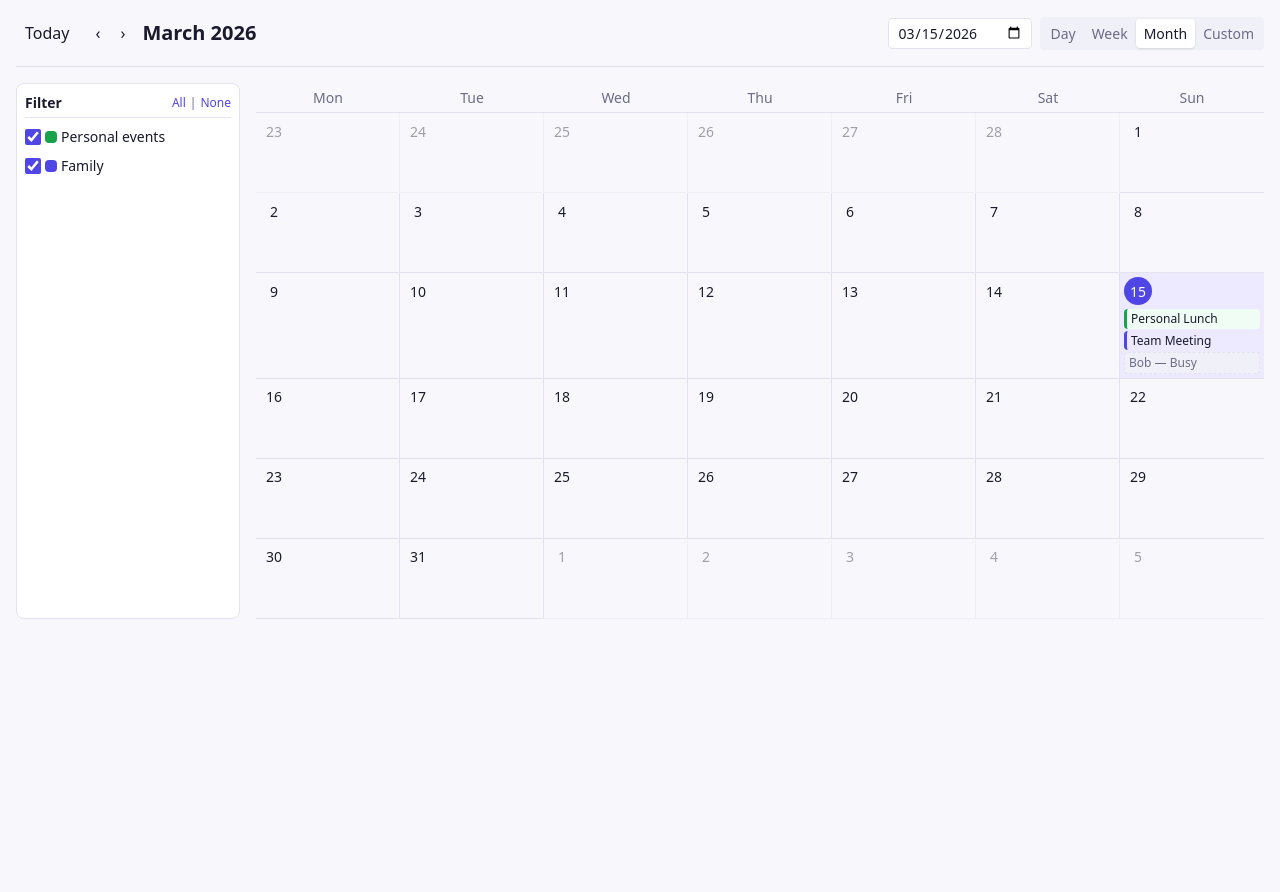
it: Calendar page › shows custom days input when custom mode is selected
Click the radio button labelled "Custom": (1229, 33) top-left (1203, 24), bottom-right (1254, 42)
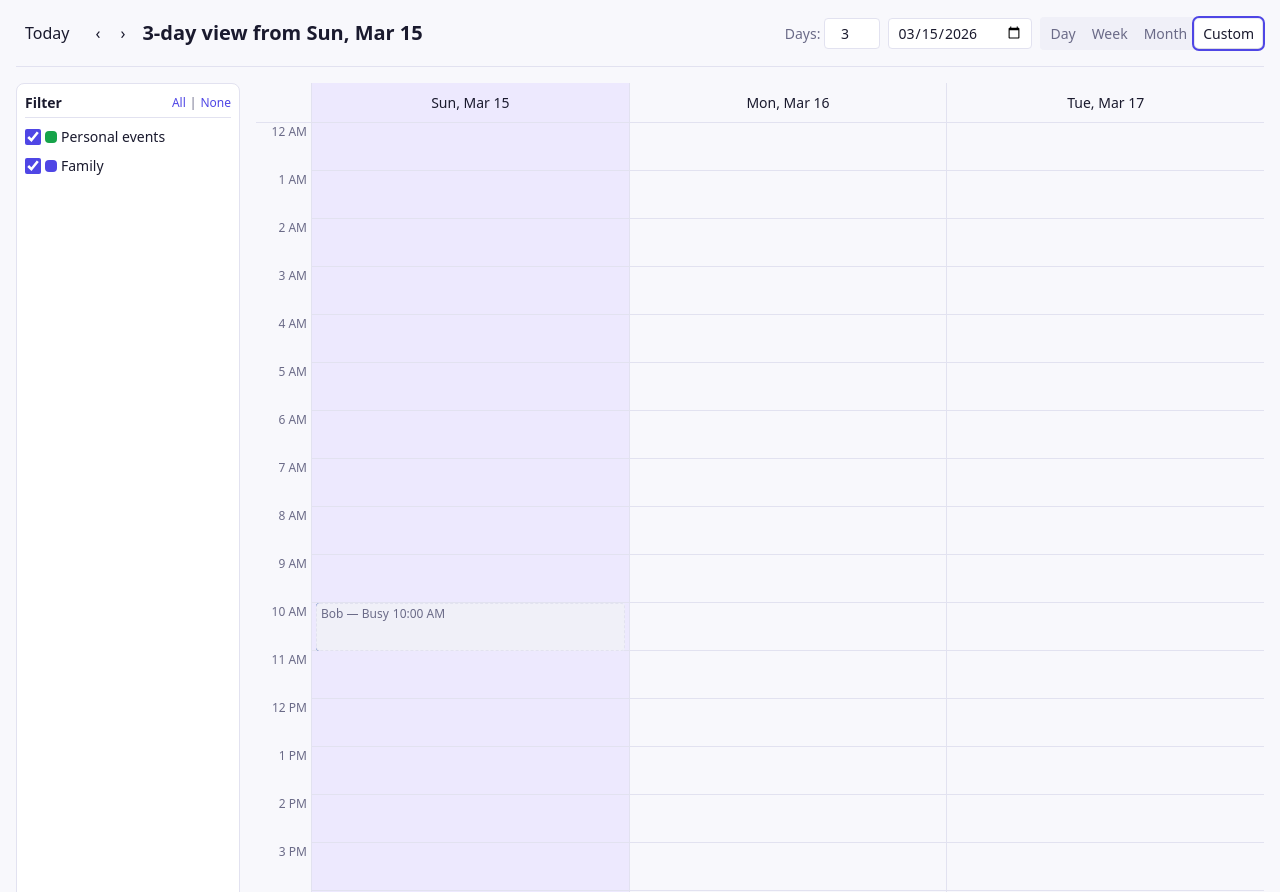
Now the number field named "number of days" is shown, box top-left (824, 18), bottom-right (880, 48)
